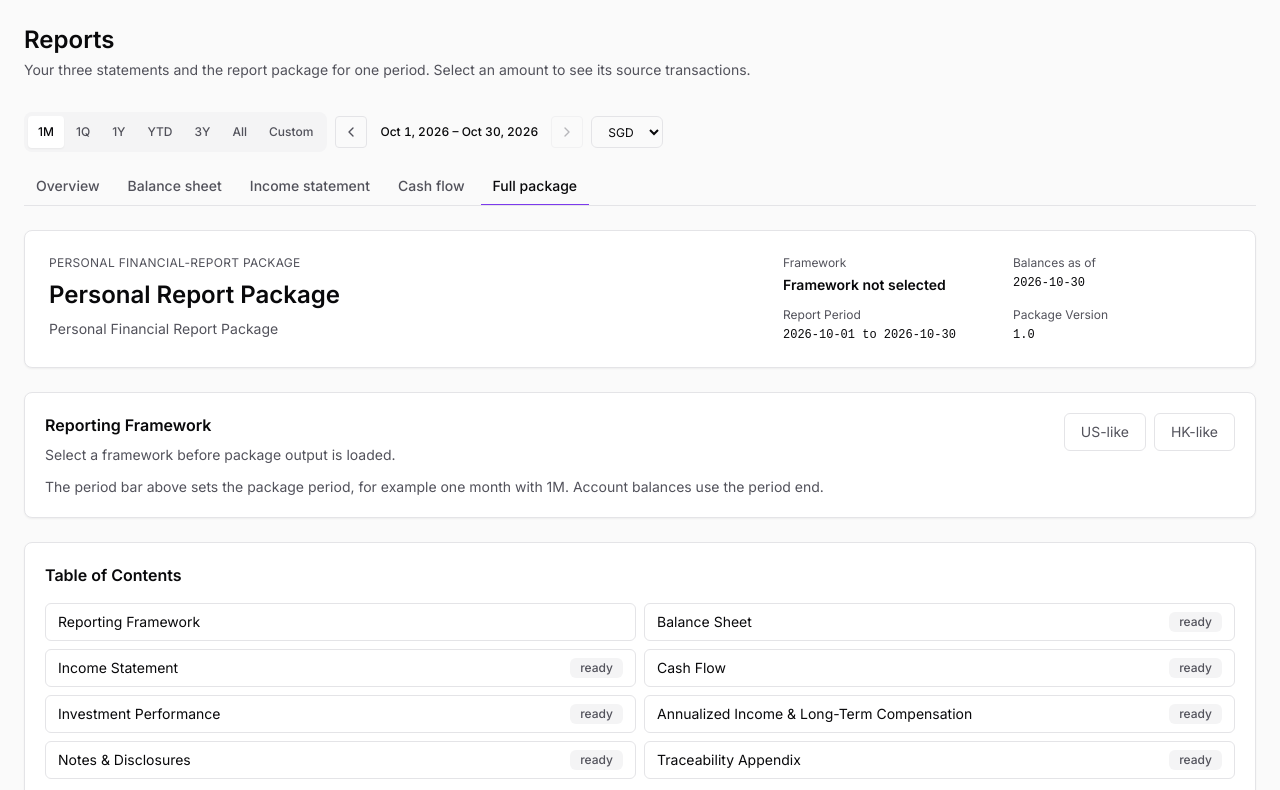
Test: PersonalReportPackagePage › AC-reporting.package-document.12 replaces an invalid period in the URL with the current period and never requests it
Click the button "US-like" at [1105, 432], box [1064,413,1146,451]
(page scrolled)
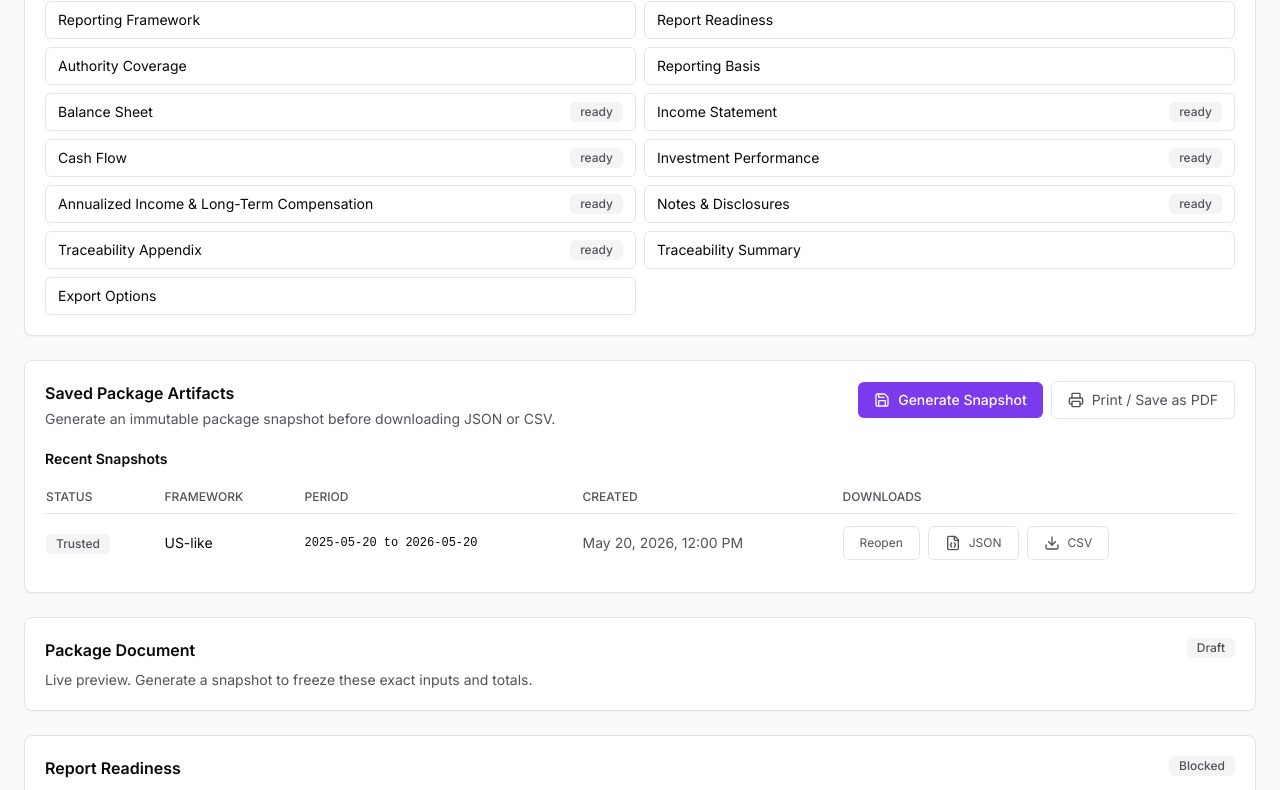
Now the button "Generate Snapshot" is shown, box [858,382,1043,418]
